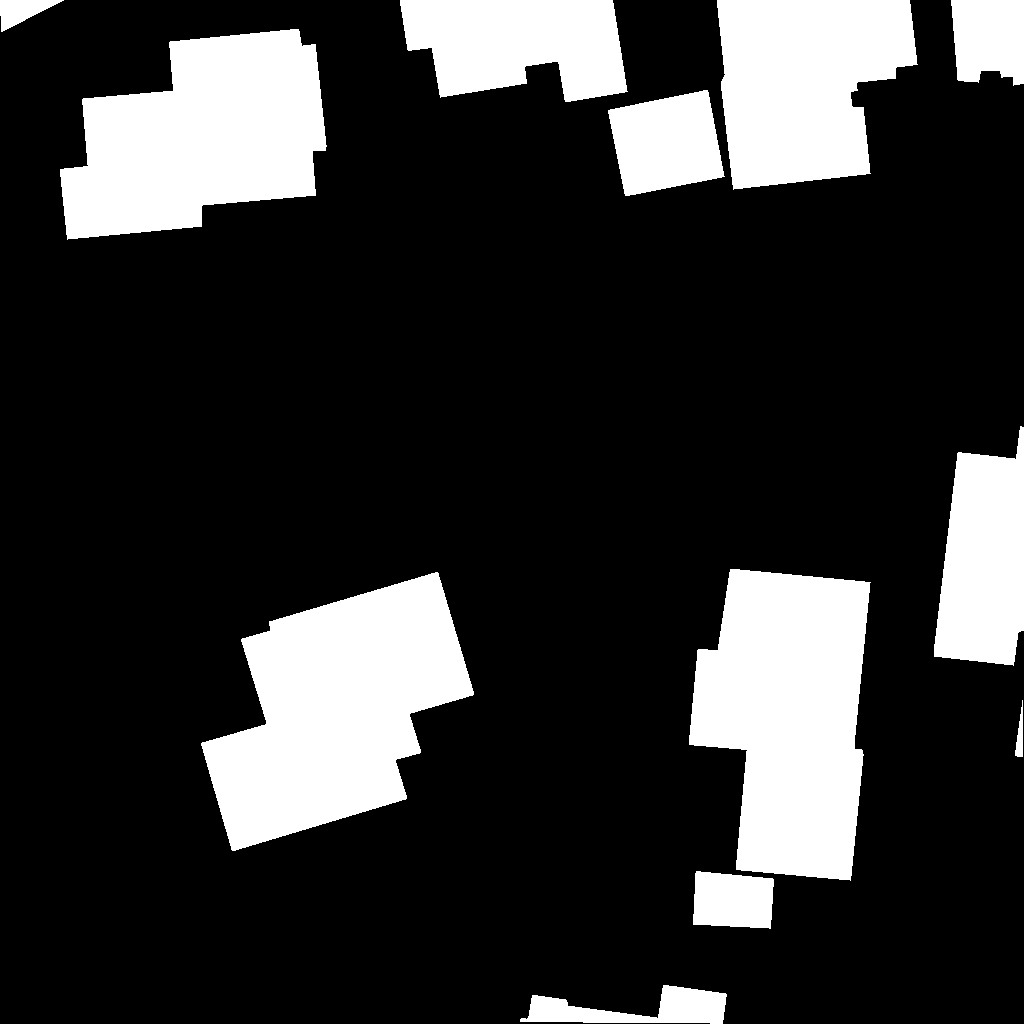building: (201, 572, 475, 852), (689, 569, 871, 881), (60, 29, 327, 240), (717, 0, 918, 190), (400, 0, 628, 103), (934, 426, 1024, 666), (608, 90, 725, 197), (520, 985, 728, 1024), (951, 0, 1024, 86), (693, 871, 775, 929), (0, 0, 65, 33), (1015, 697, 1024, 758)
